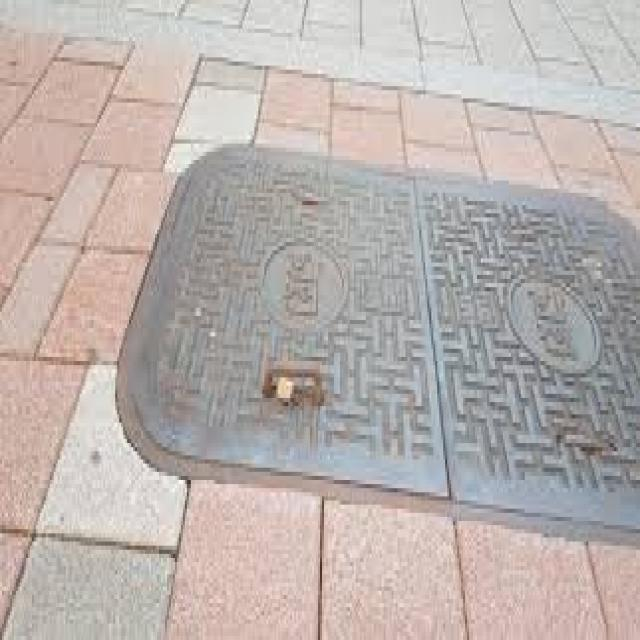manhole: (114, 145, 640, 536)
